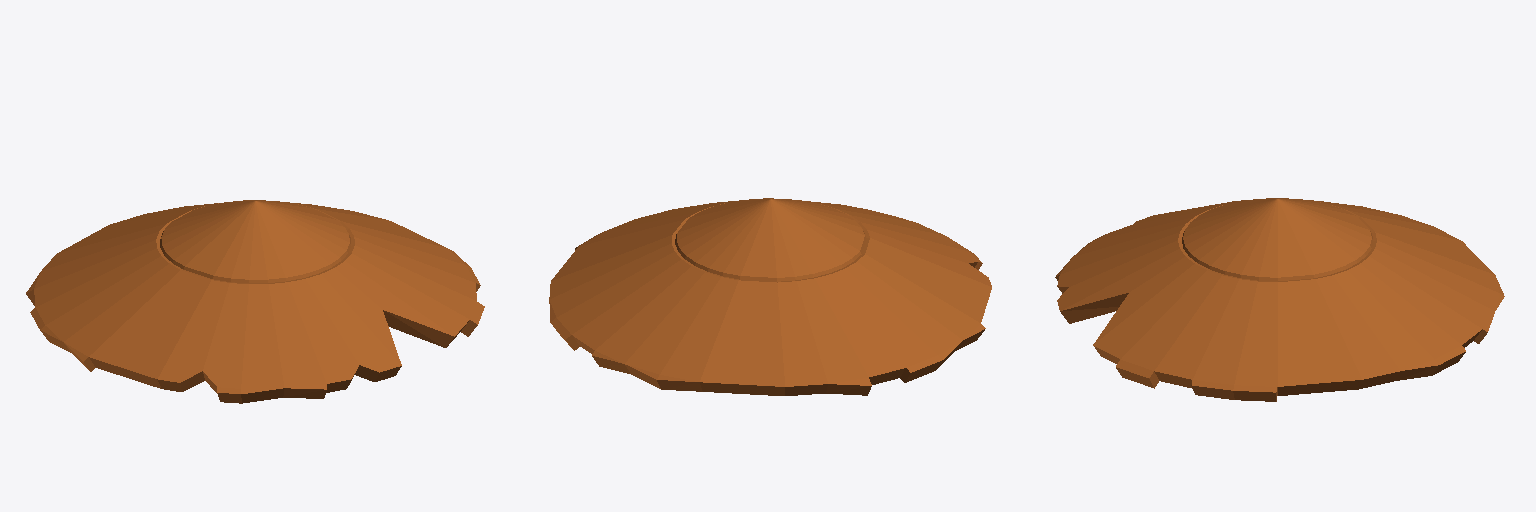
The model's file is strawhat.obj.
The picture shows the model from 3 angles: view 1: azimuth 30°, elevation 25°; view 2: azimuth 150°, elevation 25°; view 3: azimuth 270°, elevation 25°; orthographic projection.
Parts seen in each view (by area): view 1: strawhat_Cylinder.077; view 2: strawhat_Cylinder.077; view 3: strawhat_Cylinder.077.
Boxes of the visible parts, box(x1,y1,x2,y2) form: strawhat_Cylinder.077: box(26, 200, 484, 403); strawhat_Cylinder.077: box(549, 198, 991, 395); strawhat_Cylinder.077: box(1055, 198, 1504, 401).
Size of the model in its own units: 1.78 by 0.4914 by 1.77.